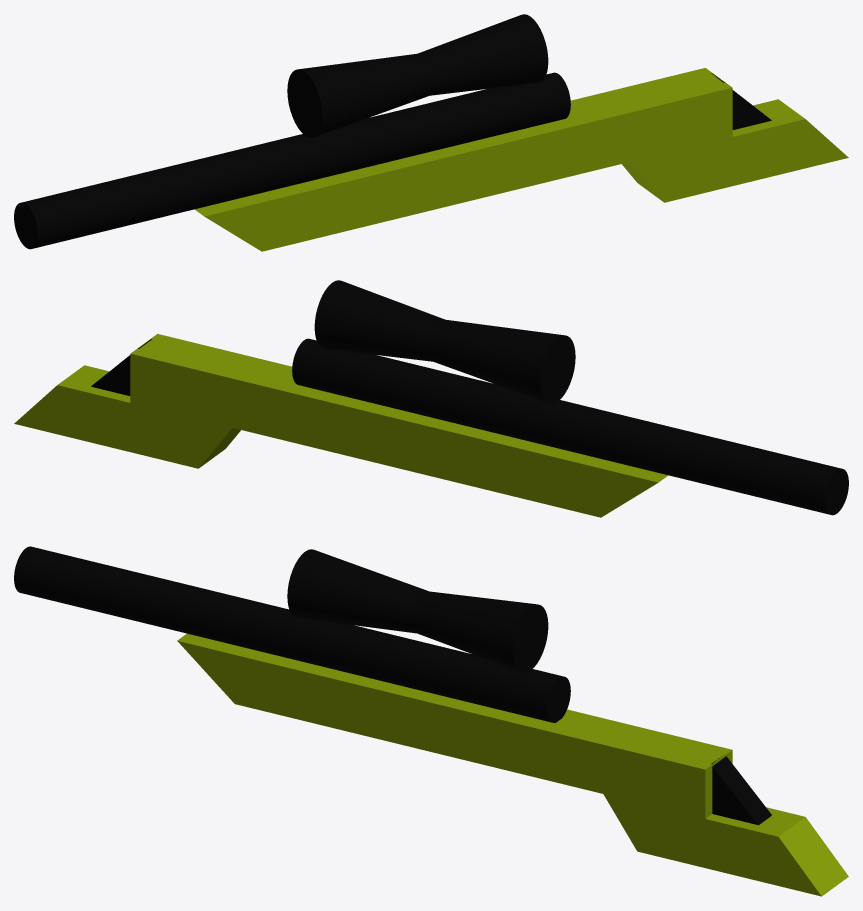
The model's file is shnipurr.fbx.
3 renders of one model, top to bottom at view 1: azimuth 30°, elevation 25°; view 2: azimuth 150°, elevation 25°; view 3: azimuth 330°, elevation 25°, orthographic.
Parts seen in each view (by area): view 1: Cube.002; view 2: Cube.002; view 3: Cube.002.
Part boxes in pixels (x1,y1,x2,y2): Cube.002: (14,14,848,251); Cube.002: (14,280,848,517); Cube.002: (14,546,848,896).
Size of the model in its own units: 1720 by 417 by 129.
